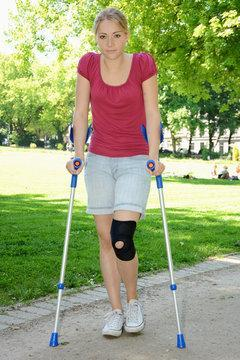crutches: (49, 9, 186, 348)
